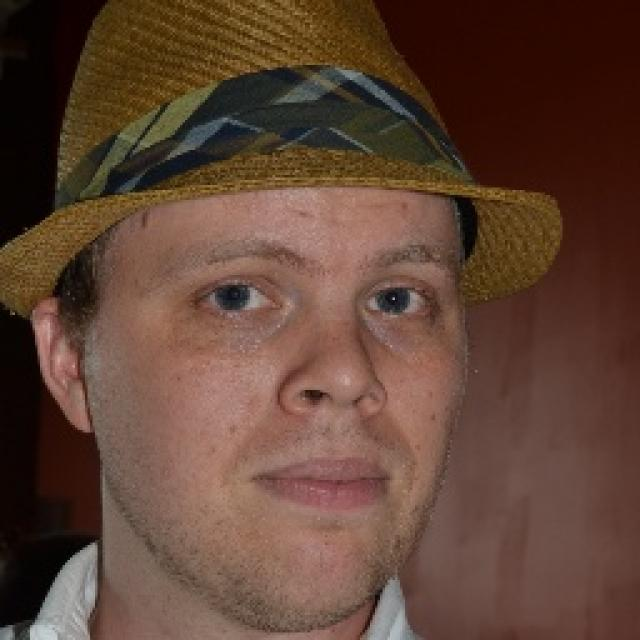earlobe: (31, 301, 98, 438)
